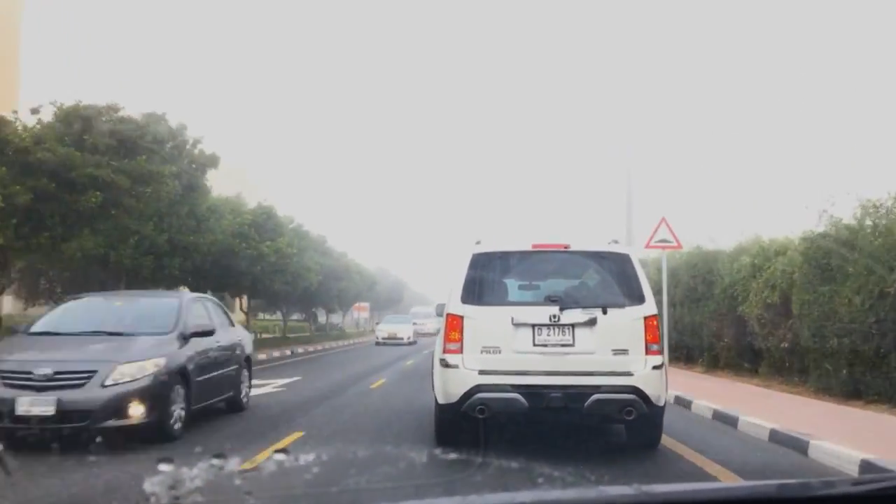bus: (408, 303, 446, 337)
car: (430, 235, 668, 457), (1, 285, 254, 453), (374, 313, 419, 347)
